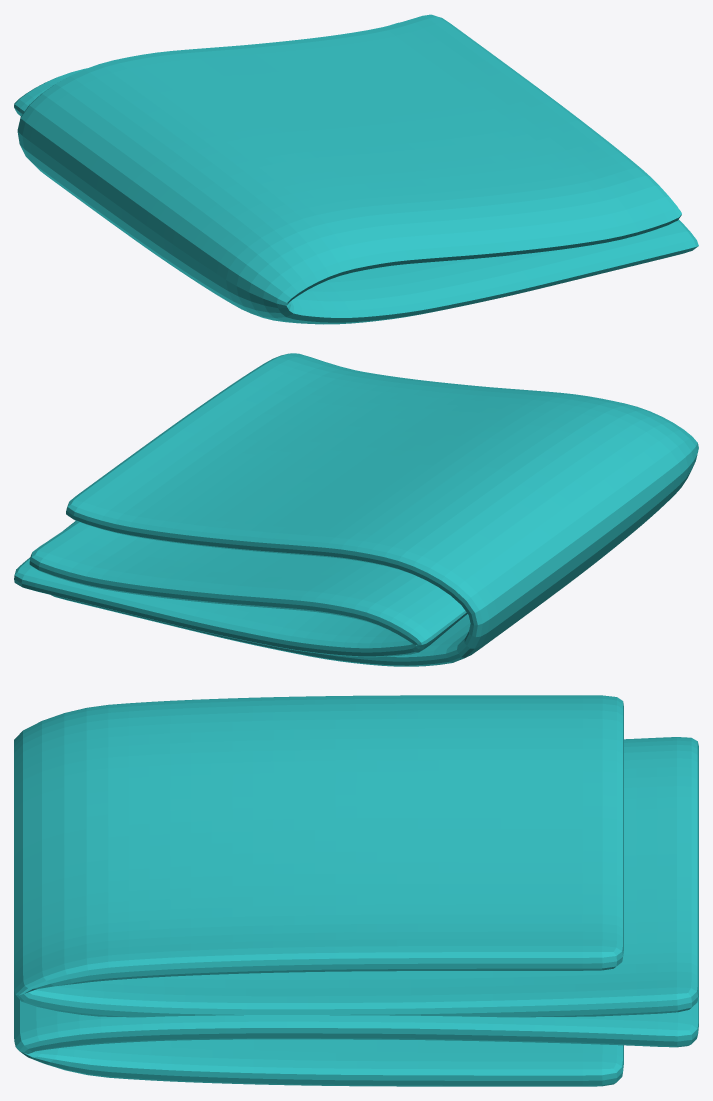
The model's file is sterilization cloth.fbx.
The picture shows the model from 3 angles, top to bottom: view 1: azimuth 30°, elevation 25°; view 2: azimuth 150°, elevation 25°; view 3: azimuth 270°, elevation 25°; orthographic projection. The views are drawn at different scales.
Parts seen in each view (by area): view 1: Plane; view 2: Plane; view 3: Plane.
Boxes of the visible parts, x1=… form: Plane: x1=14, y1=14, x2=698, y2=324; Plane: x1=14, y1=353, x2=698, y2=666; Plane: x1=14, y1=695, x2=698, y2=1086.
Size of the model in its own units: 7.26 by 2.01 by 7.76.
